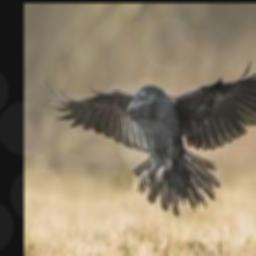Crow: (44, 50, 256, 214)
